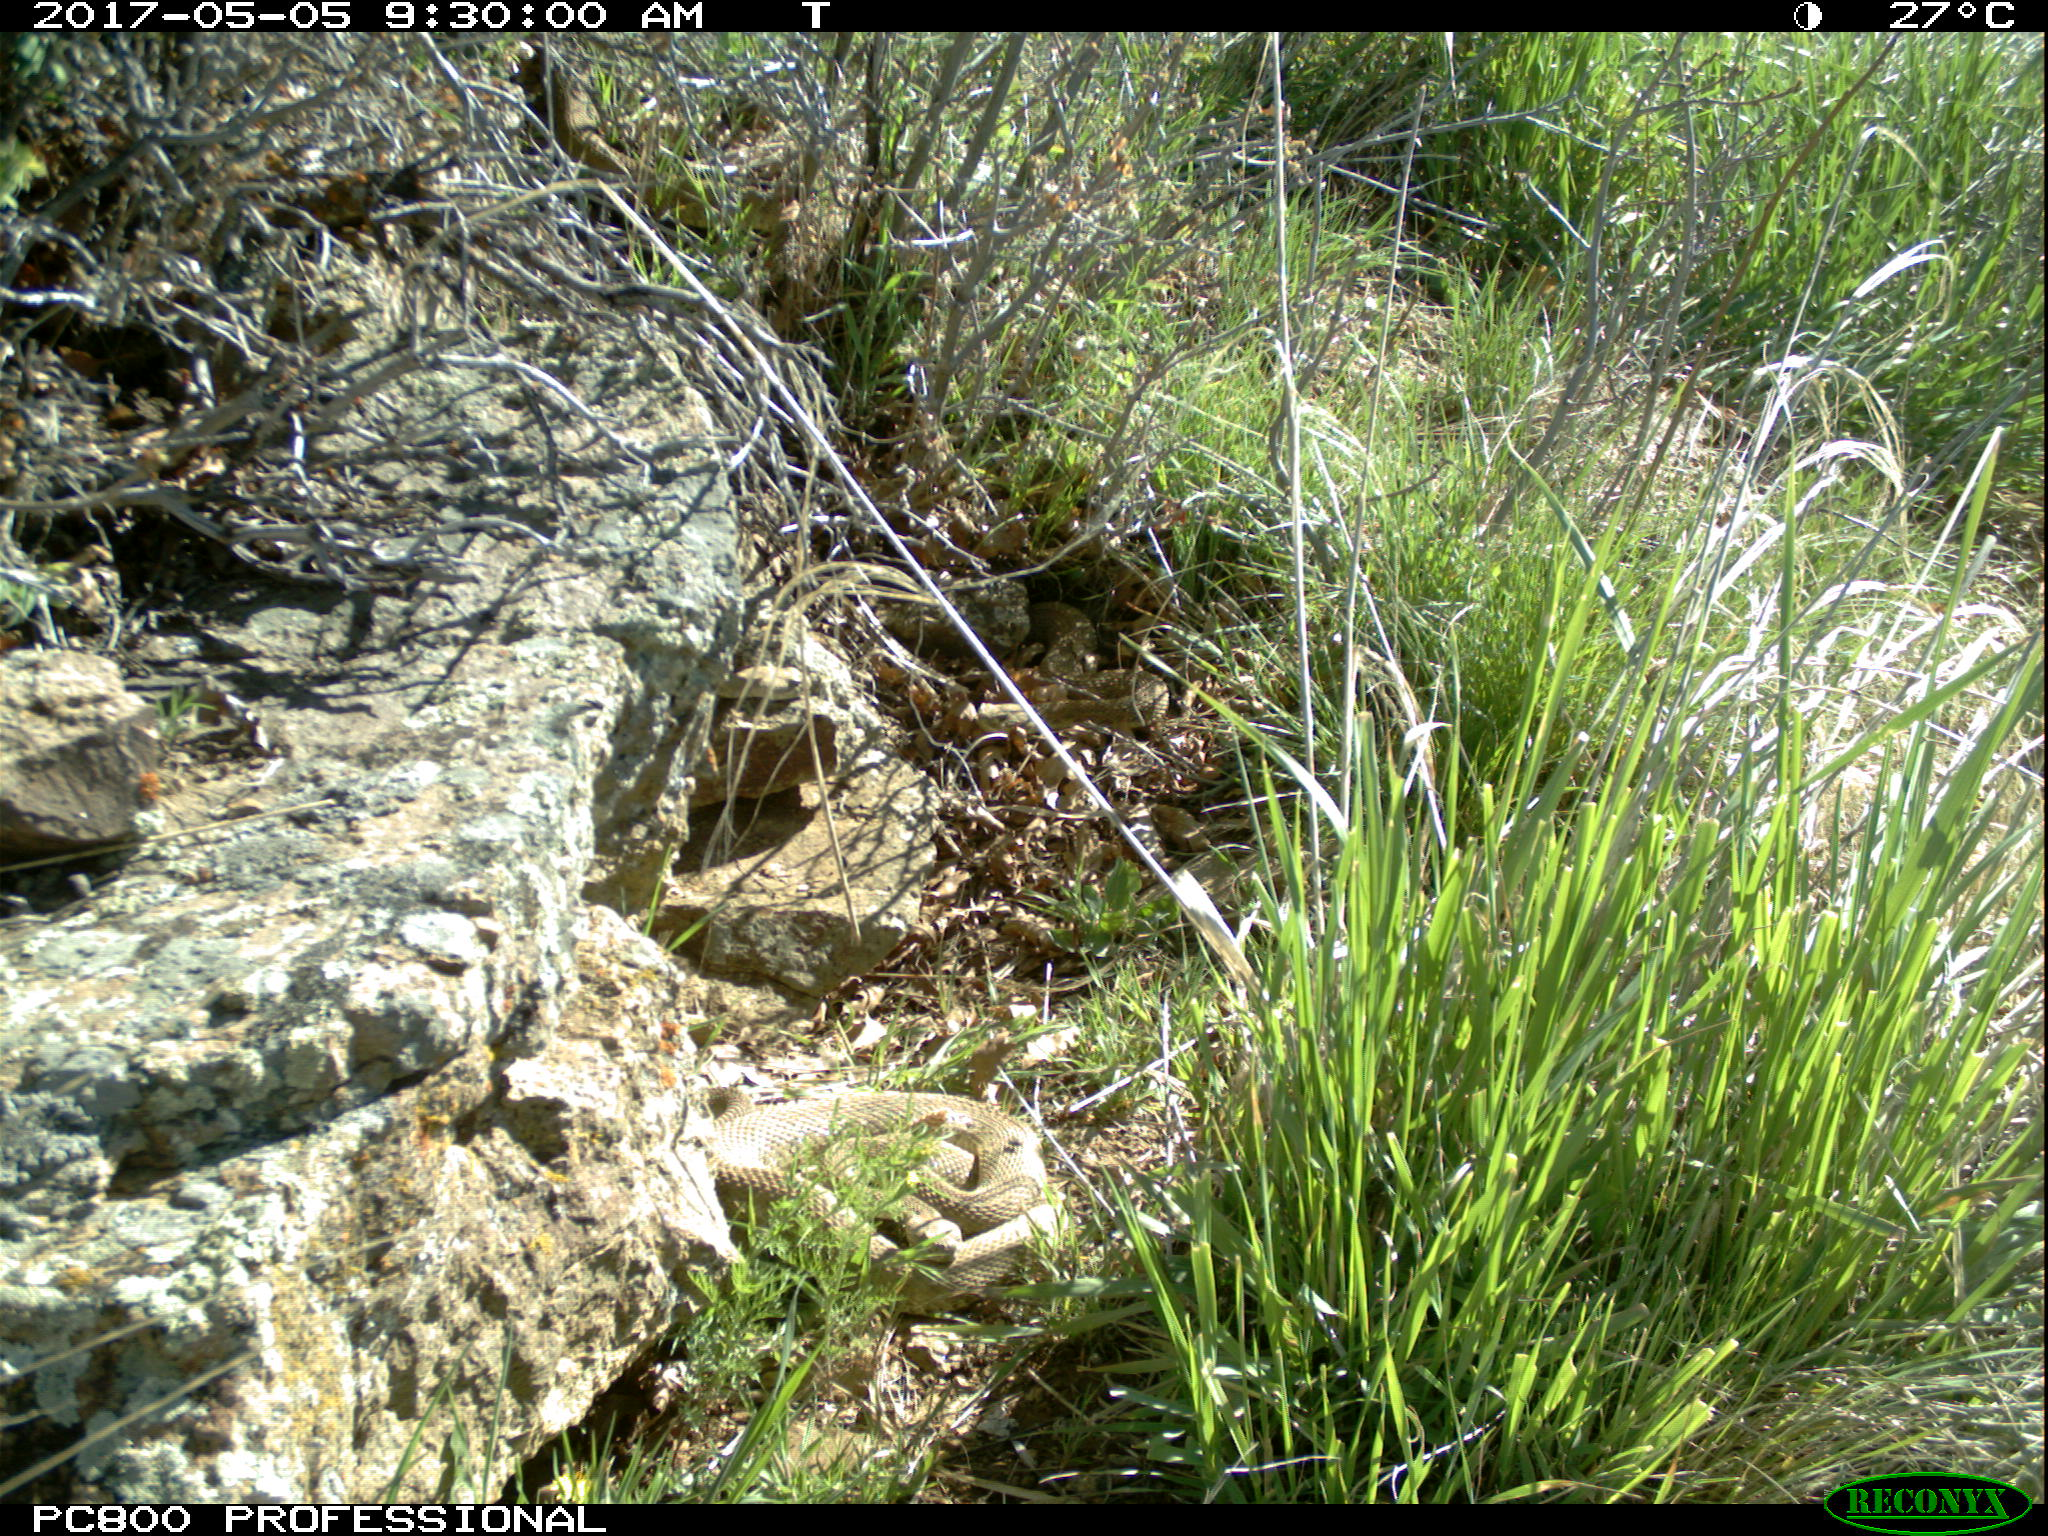snake: (708, 1081, 1076, 1309), (948, 600, 1201, 733)
